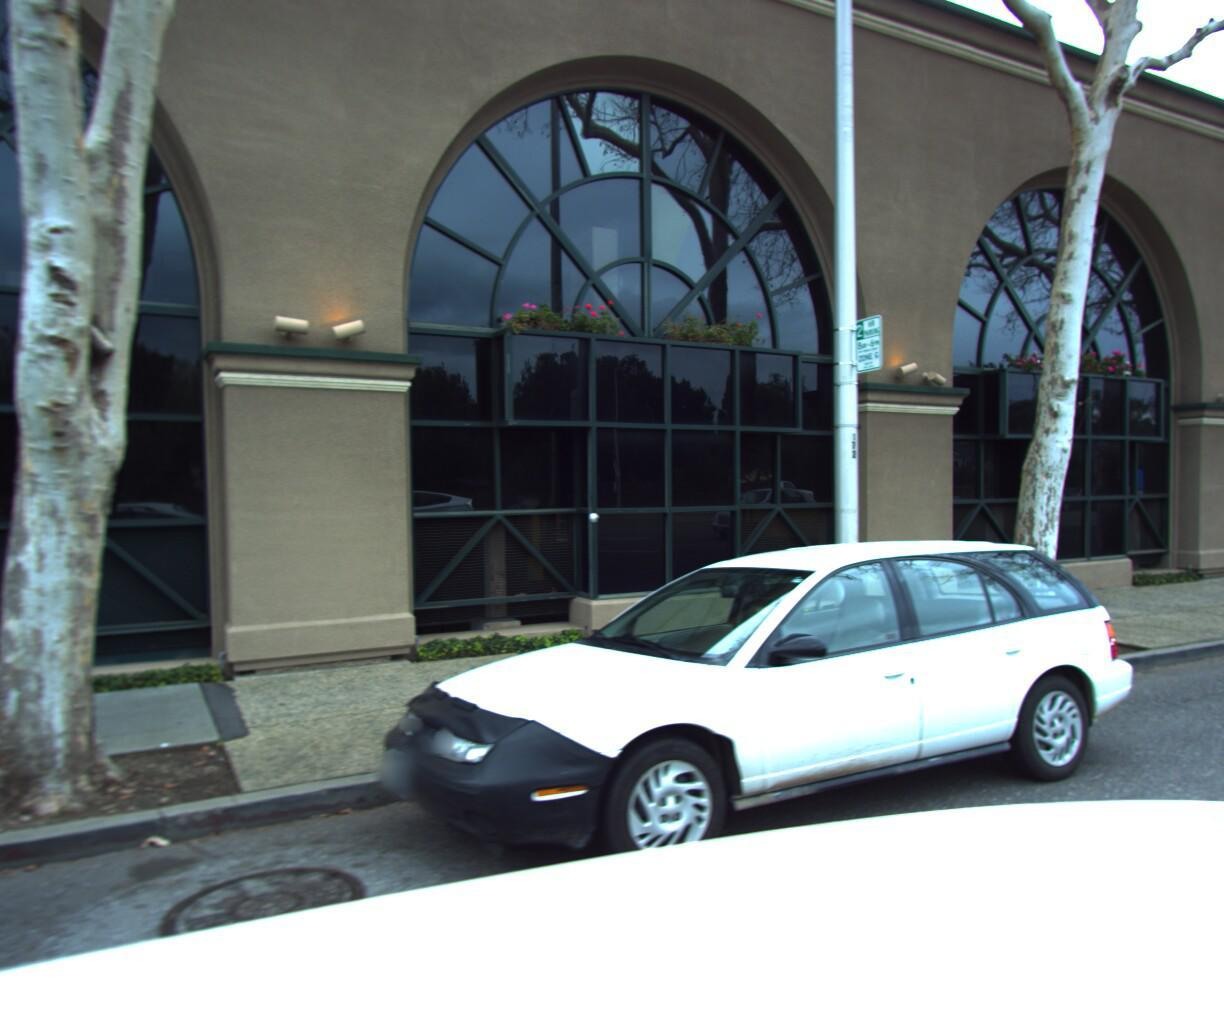car: (325, 520, 1181, 1001)
